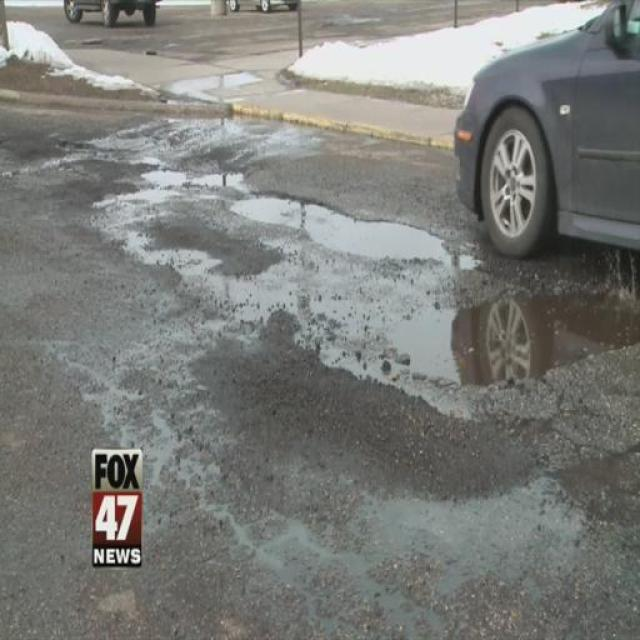puddle: (367, 290, 633, 390), (228, 184, 465, 285)
